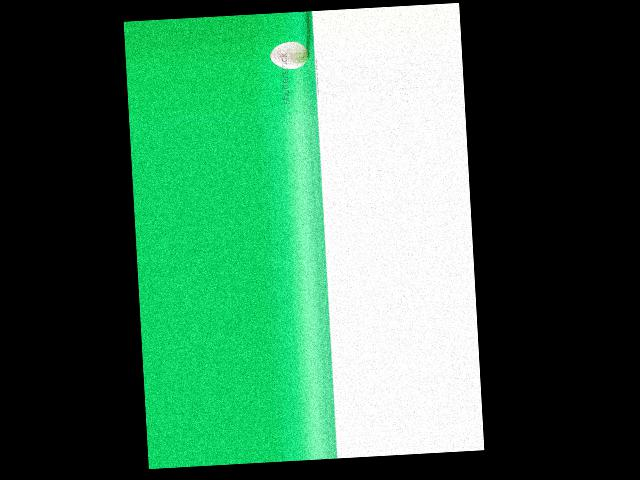egg: (269, 40, 310, 69)
